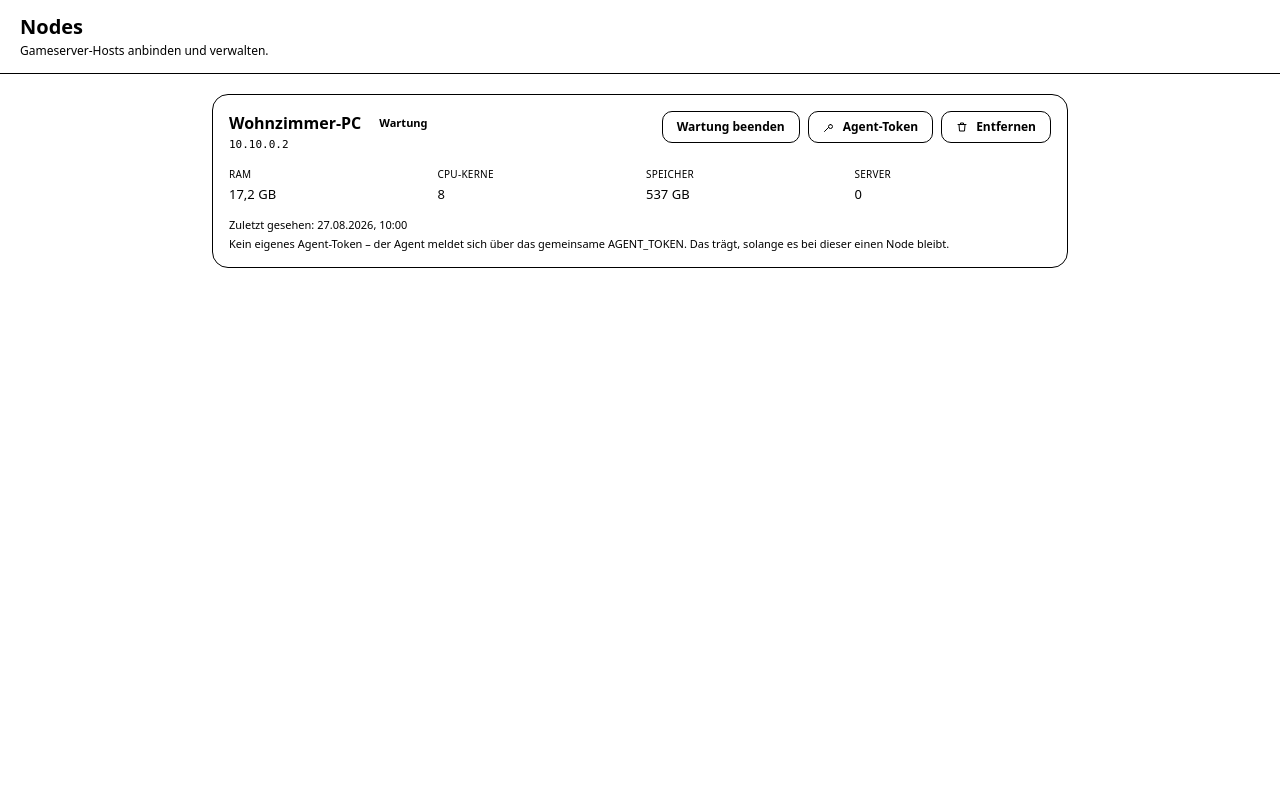
Test: NodesAdminView – Wartungsschalter › schickt beim Beenden der Wartung { maintenance: false } – und kein status
Expected: the heading "Wohnzimmer-PC" is shown, [229,112,361,134]
Click the button "Wartung beenden": click(731, 127) [662,111,800,143]
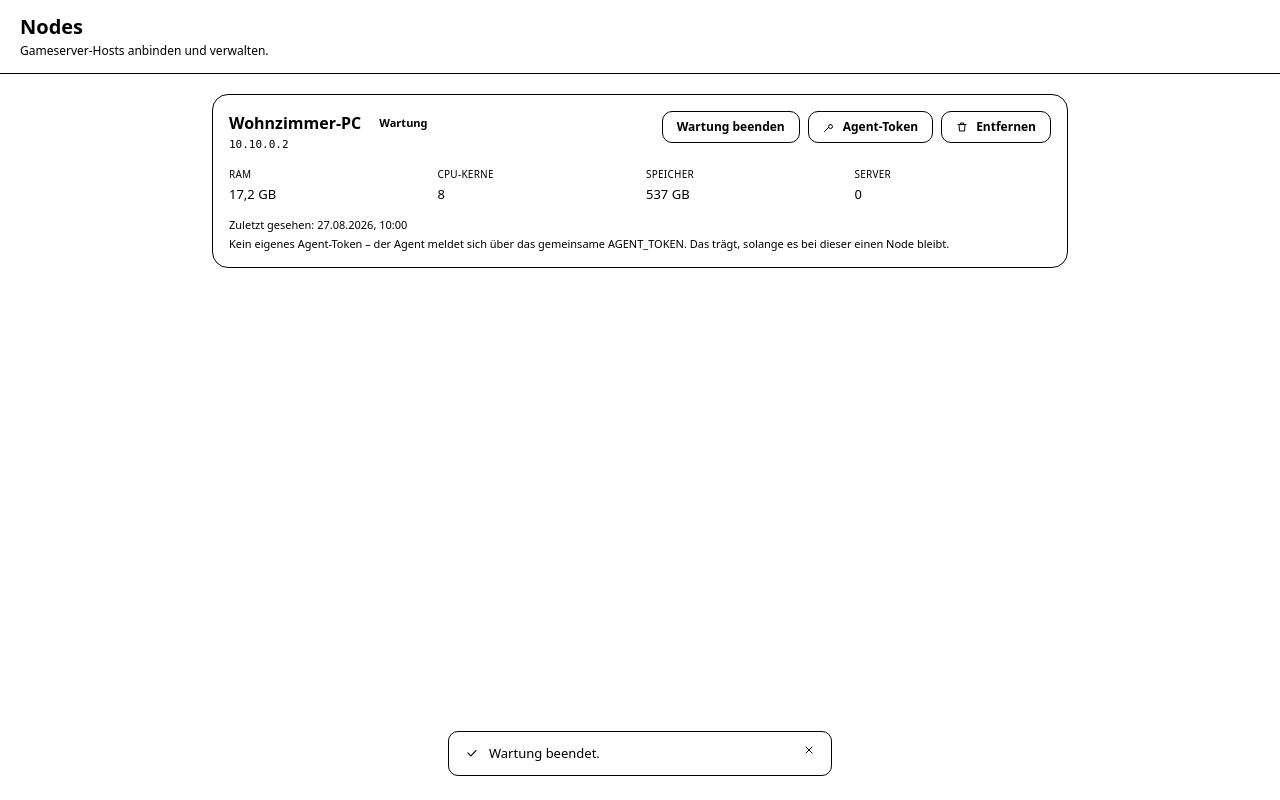
Expected: the text "Wartung beendet." is shown, [489,744,600,762]
